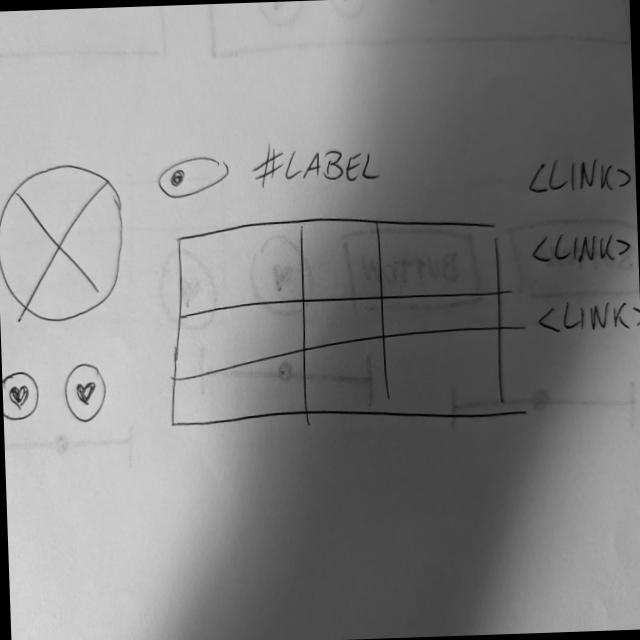icon-button: (63, 360, 108, 425), (3, 368, 42, 421)
image: (1, 161, 129, 326)
label: (252, 140, 384, 191)
link: (525, 153, 634, 199), (535, 293, 640, 339), (530, 228, 636, 270)
table: (165, 208, 512, 433)
toggle: (157, 153, 233, 201)
